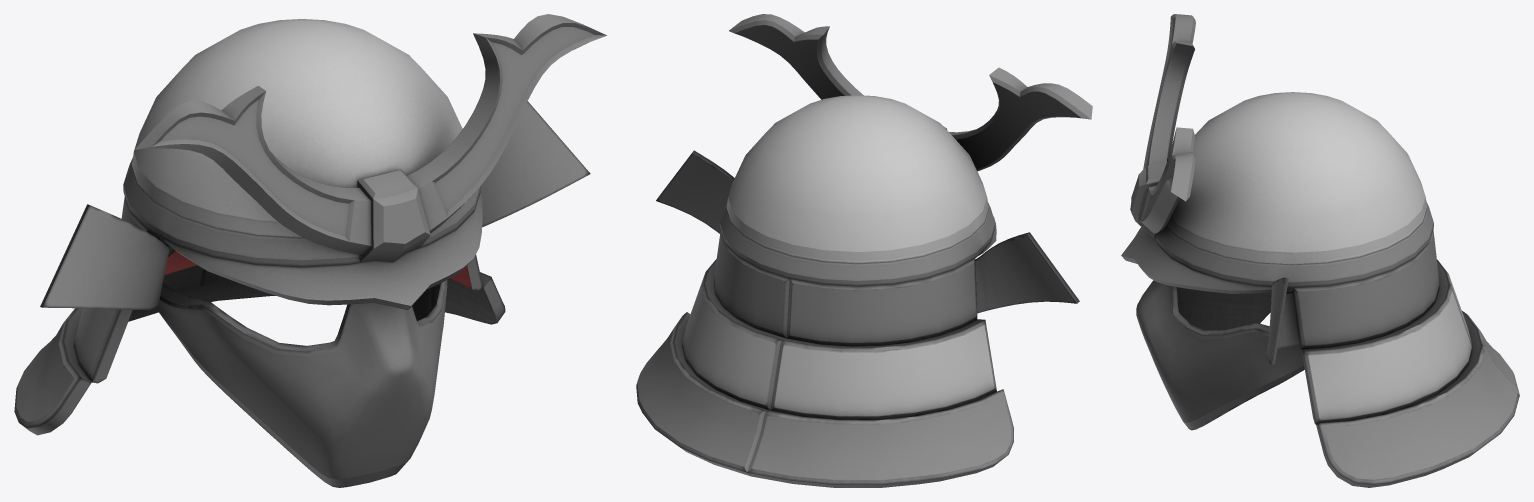
Rendered from samurai_base_helmet.glb.
The picture shows the model from 3 angles, left to right: view 1: azimuth 30°, elevation 25°; view 2: azimuth 150°, elevation 25°; view 3: azimuth 270°, elevation 25°; orthographic projection. The views are drawn at different scales.
Parts seen in each view (by area): view 1: SphereFix, mask, Figure, Symmetry01_1, Sphere1, Symmetry02_3, Sphere2, Figure_part, Symmetry02_2; view 2: SphereFix, Symmetry02_3, Symmetry02_2, Symmetry02_1, Figure, Symmetry01_1, Sphere2; view 3: SphereFix, mask, Symmetry02_3, Symmetry02_2, Symmetry02_1, Sphere2, Figure, Sphere1, Symmetry01_1, Figure_part.
Boxes of the visible parts, <box> form: SphereFix: <box>131,19,462,237</box>; mask: <box>156,280,447,487</box>; Figure: <box>134,14,606,255</box>; Symmetry01_1: <box>40,101,590,310</box>; Sphere1: <box>155,193,482,309</box>; Symmetry02_3: <box>14,265,505,435</box>; Sphere2: <box>123,157,480,267</box>; Figure_part: <box>357,169,430,262</box>; Symmetry02_2: <box>74,251,482,383</box>; SphereFix: <box>726,95,988,263</box>; Symmetry02_3: <box>636,312,1013,487</box>; Symmetry02_2: <box>682,259,996,419</box>; Symmetry02_1: <box>714,231,977,346</box>; Figure: <box>729,14,1092,171</box>; Symmetry01_1: <box>656,150,1079,313</box>; Sphere2: <box>720,202,995,286</box>; SphereFix: <box>1166,92,1427,264</box>; mask: <box>1136,280,1304,430</box>; Symmetry02_3: <box>1316,311,1519,487</box>; Symmetry02_2: <box>1301,259,1471,424</box>; Symmetry02_1: <box>1293,230,1439,349</box>; Sphere2: <box>1154,201,1433,287</box>; Figure: <box>1139,14,1195,233</box>; Sphere1: <box>1121,227,1291,293</box>; Symmetry01_1: <box>1267,277,1299,364</box>; Figure_part: <box>1130,162,1166,238</box>.
Bounding box in the file's own units: 7.76 × 5.71 × 6.19.
Materials: 1 (1 with a texture image).
